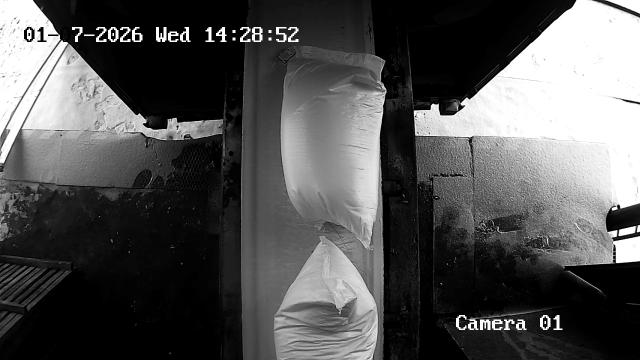bag: (280, 46, 386, 248), (274, 238, 378, 360)
